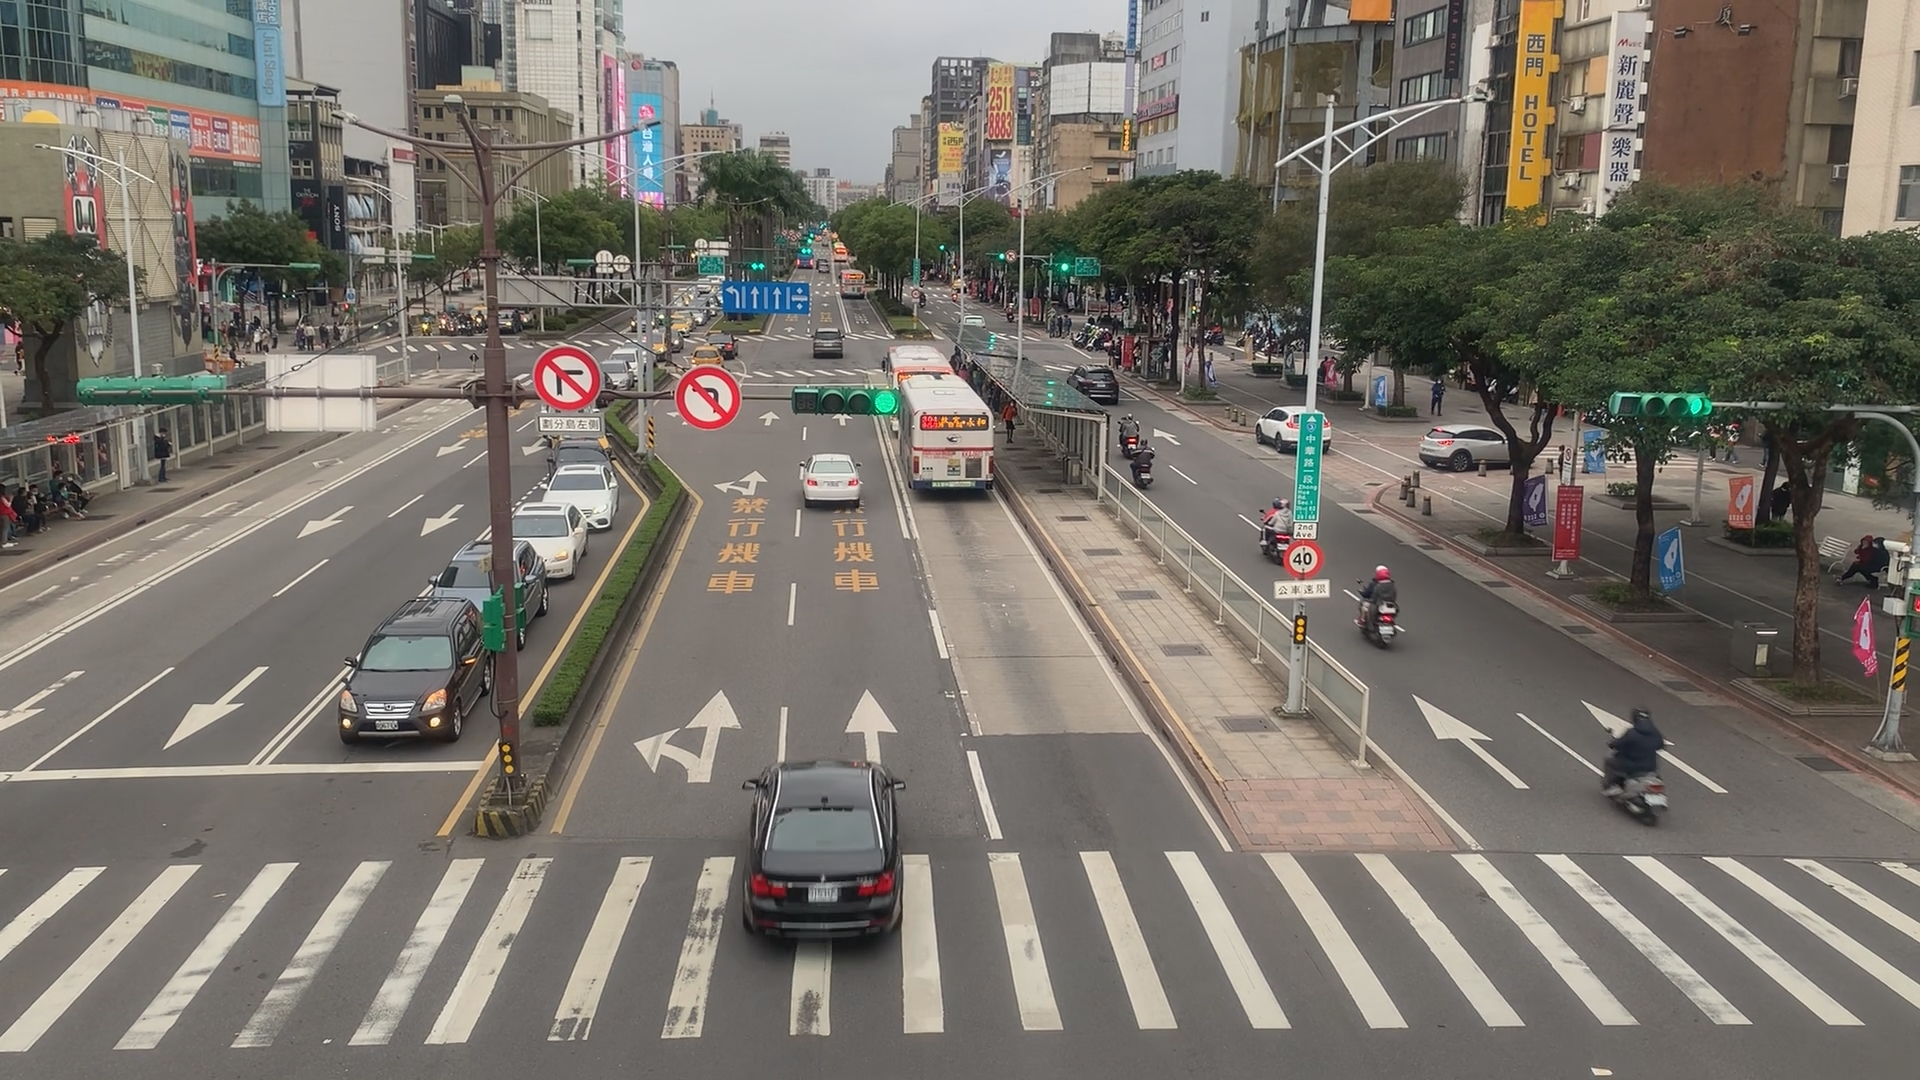Bus: (901, 371, 998, 497), (881, 335, 949, 425), (840, 262, 880, 309)
Motorcycle: (1584, 691, 1683, 818), (1356, 556, 1418, 658), (1251, 483, 1305, 571), (1125, 436, 1167, 498), (1116, 405, 1143, 455)
Private Passenger Car: (731, 754, 919, 976), (338, 589, 495, 752), (429, 529, 549, 642), (1422, 415, 1536, 481), (491, 504, 585, 582), (543, 463, 637, 541), (1255, 394, 1335, 463), (795, 448, 862, 516), (545, 435, 615, 492), (1067, 357, 1124, 410), (597, 353, 650, 397), (808, 323, 851, 365)
